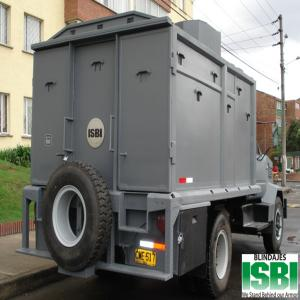Vehicle-registration-plate: (136, 250, 156, 268)
